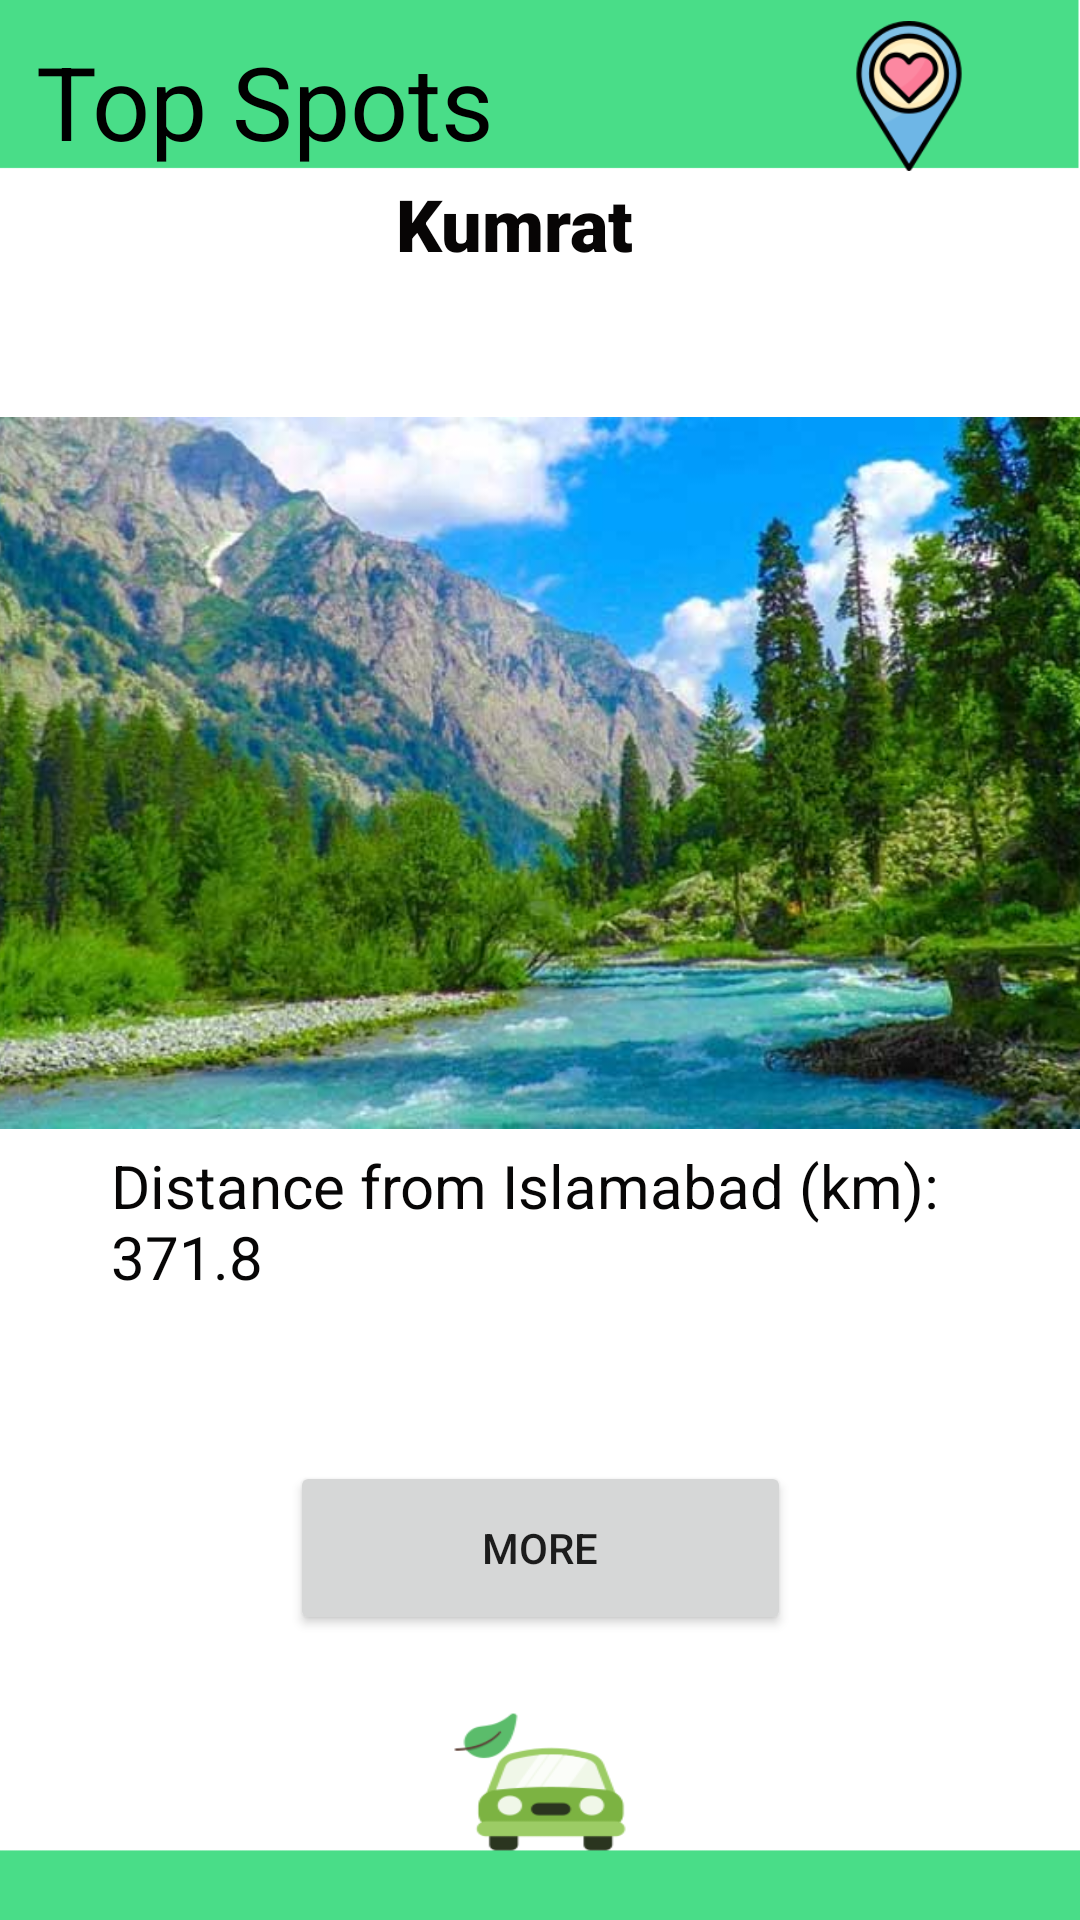

Where icons sit on this 1080px x 1920px app screen, as box=[x1, y1, x2, y2]:
famous: box=[834, 21, 984, 174]
